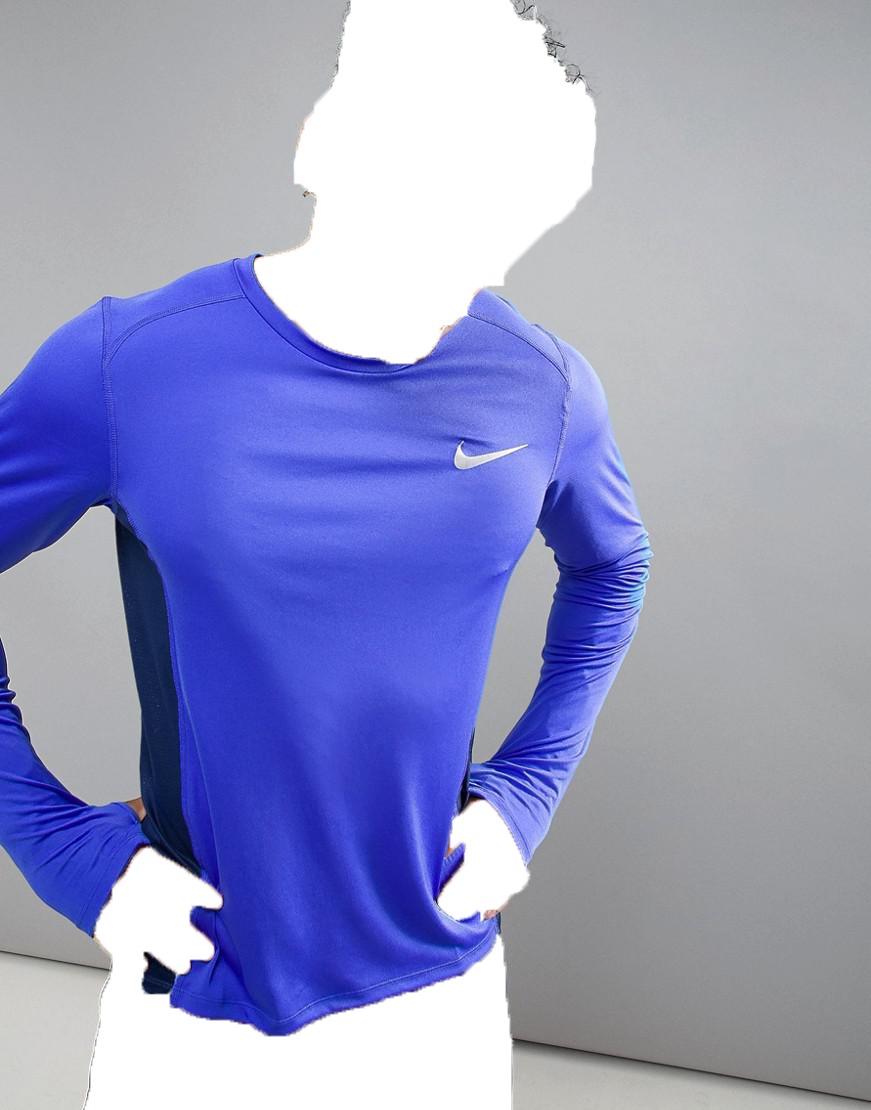teeshirt: (5, 246, 662, 1032)
